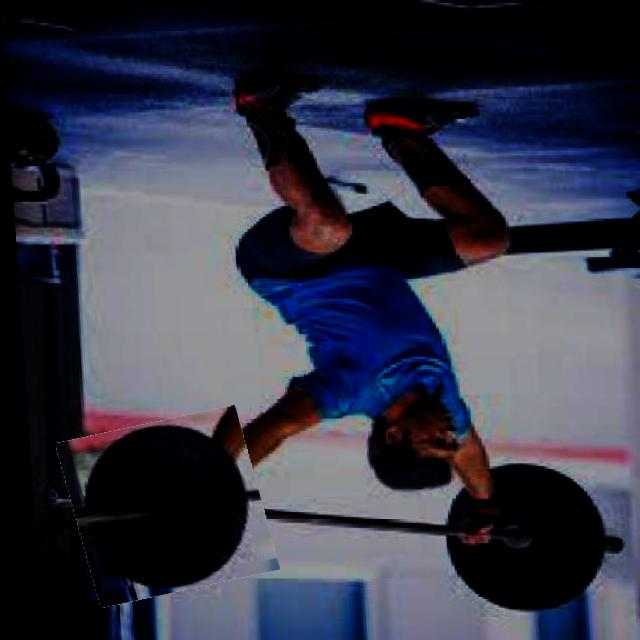barbell: (56, 414, 267, 600)
